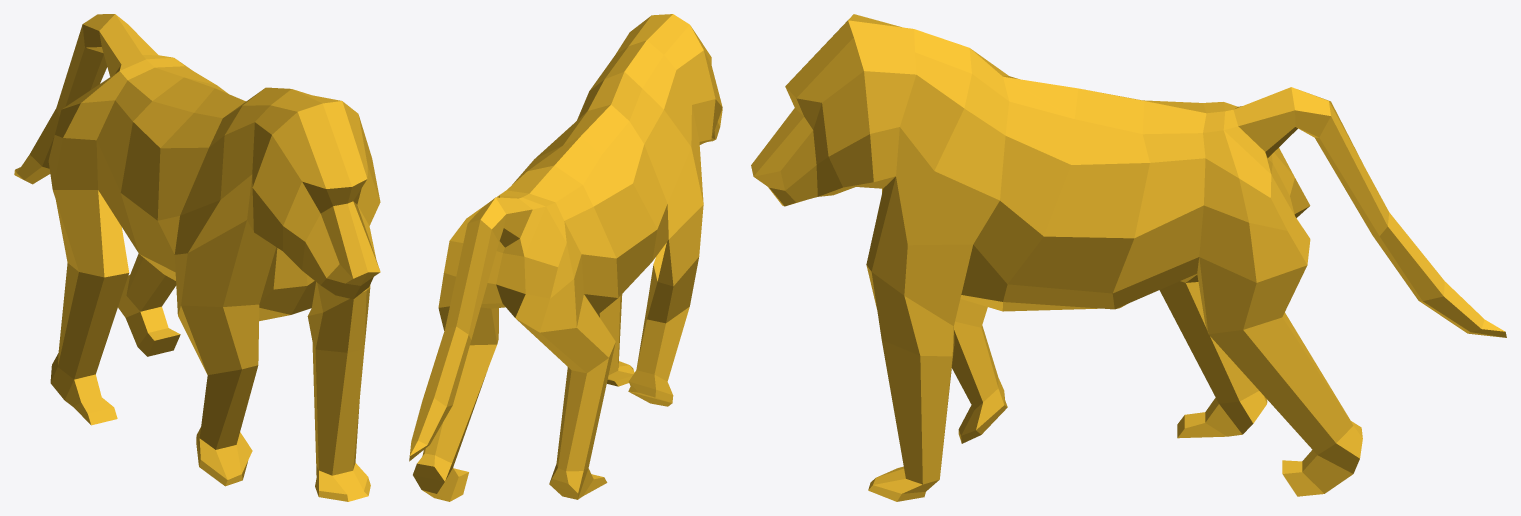
Rendered from Affe2.fbx.
3 views of the same model, side by side, from view 1: azimuth 30°, elevation 25°; view 2: azimuth 150°, elevation 25°; view 3: azimuth 270°, elevation 25° (orthographic). The views are drawn at different scales.
Visible parts, largest first — view 1: Affe.003; view 2: Affe.003; view 3: Affe.003.
Part boxes in pixels (x1=…): Affe.003: x1=14, y1=14, x2=380, y2=501; Affe.003: x1=409, y1=14, x2=722, y2=501; Affe.003: x1=751, y1=14, x2=1506, y2=501.
Size of the model in its own units: 0.3029 by 0.7309 by 1.13.
